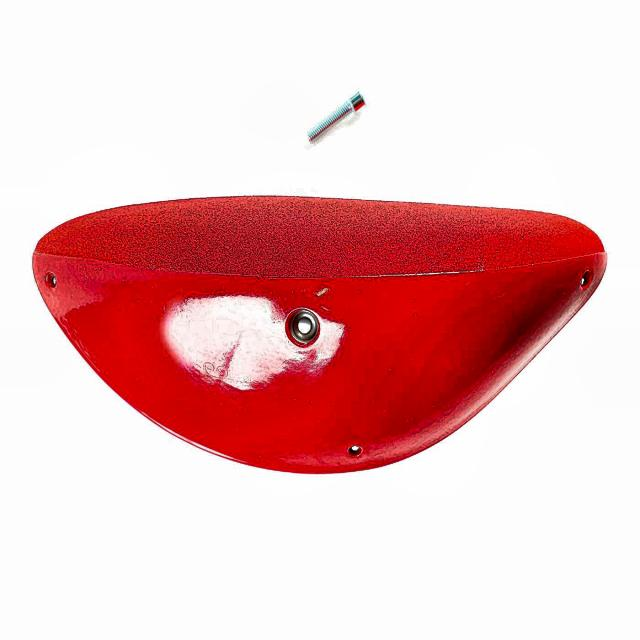Hold: (27, 197, 612, 477)
